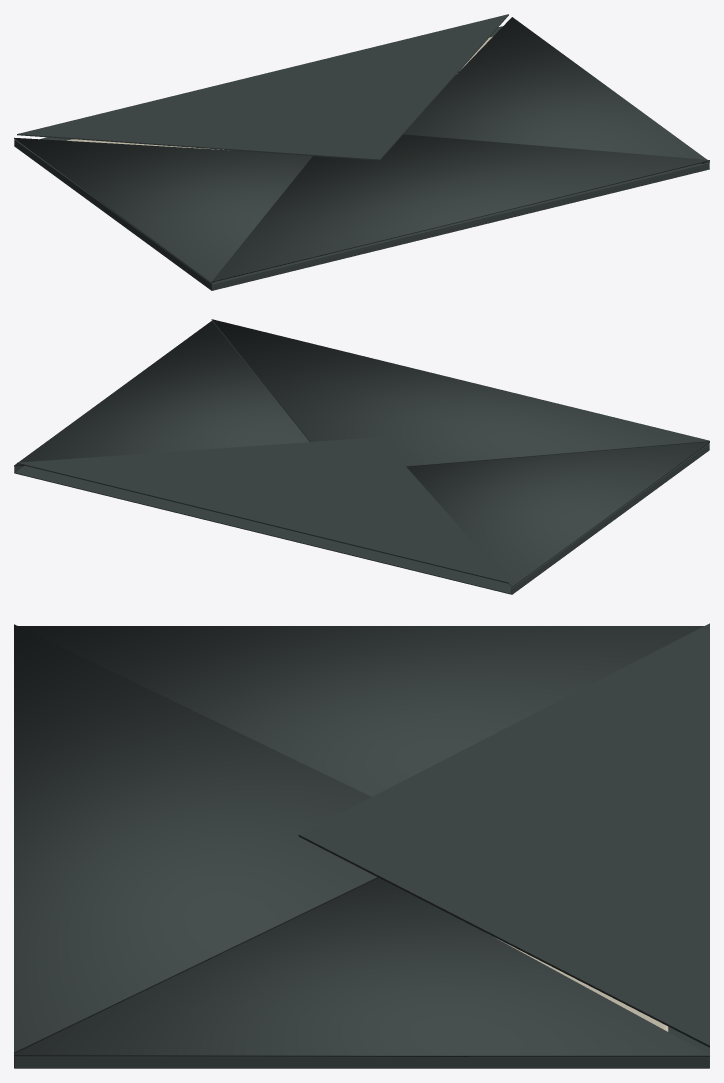
The model's file is D05_EnvelopeGrey.fbx.
3 renders of one model, top to bottom at view 1: azimuth 30°, elevation 25°; view 2: azimuth 150°, elevation 25°; view 3: azimuth 270°, elevation 25°, orthographic. The views are drawn at different scales.
Visible parts, largest first — view 1: EnvelopeBody_Mesh, FlapPivot_Mesh; view 2: EnvelopeBody_Mesh, FlapPivot_Mesh; view 3: EnvelopeBody_Mesh, FlapPivot_Mesh.
Part boxes in pixels (left/top/right/bottom): EnvelopeBody_Mesh: left=14, top=17, right=709, bottom=290; FlapPivot_Mesh: left=17, top=14, right=508, bottom=160; EnvelopeBody_Mesh: left=14, top=319, right=709, bottom=594; FlapPivot_Mesh: left=17, top=437, right=508, bottom=583; EnvelopeBody_Mesh: left=14, top=624, right=709, bottom=1068; FlapPivot_Mesh: left=298, top=623, right=709, bottom=1047.
Size of the model in its own units: 0.16 by 0.00356 by 0.11.
